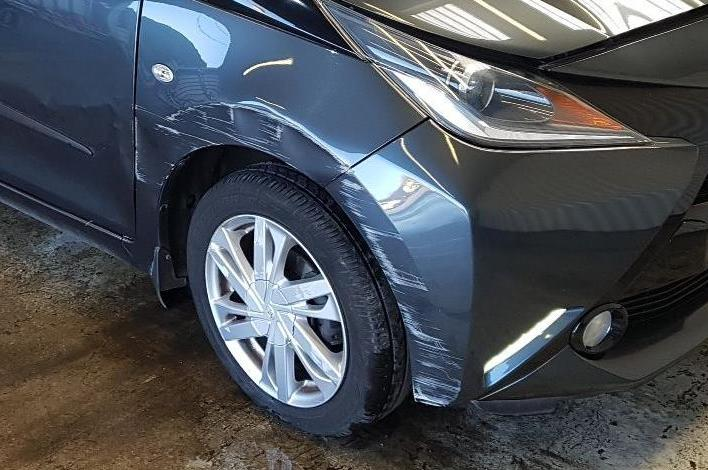Fender: (134, 0, 425, 242)
Front-bumper: (327, 116, 707, 415)
Front-door: (0, 0, 143, 241)
Front-wheel: (187, 160, 411, 438)
Grille: (541, 72, 707, 147)
Headlight: (320, 0, 655, 153)
Hood: (335, 0, 707, 86)
Rocker-panel: (1, 186, 158, 279)
